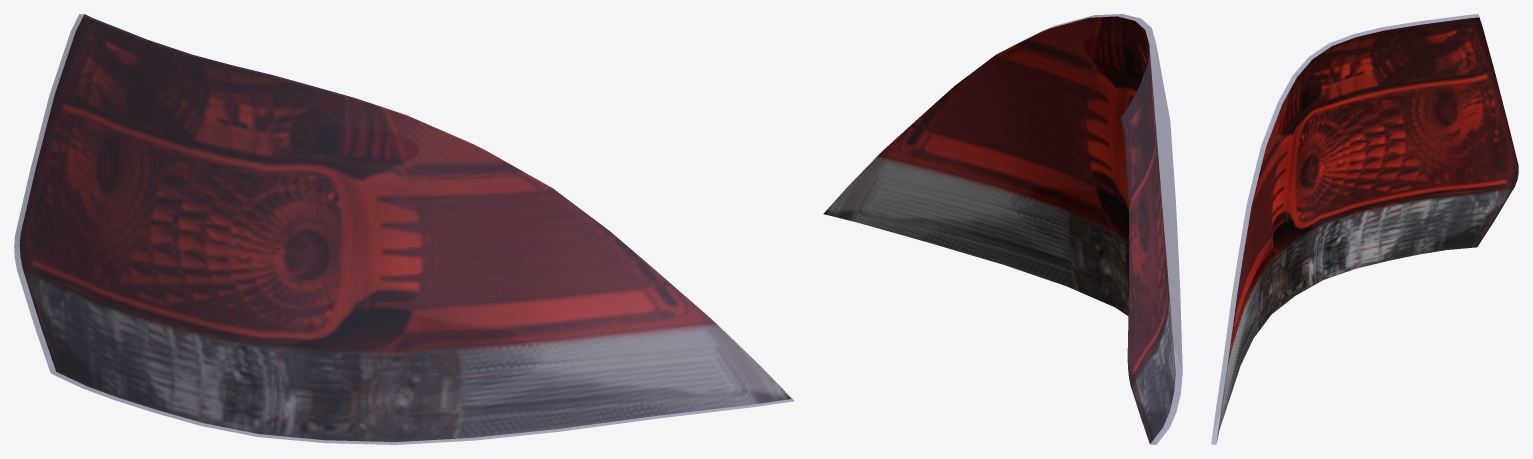
3 views of the same model, side by side, from view 1: azimuth 30°, elevation 25°; view 2: azimuth 150°, elevation 25°; view 3: azimuth 270°, elevation 25° (orthographic). The views are drawn at different scales.
Visible parts, largest first — view 1: X6164_20_541C_R_1_DTaSI_X6164_20_541C_R, X6164_20_541C_R_X6164_20_541C_R_2_N; view 2: X6164_20_541C_R_X6164_20_541C_R_2_N, X6164_20_541C_R_1_DTaSI_X6164_20_541C_R; view 3: X6164_20_541C_R_X6164_20_541C_R_2_N, X6164_20_541C_R_1_DTaSI_X6164_20_541C_R.
Boxes of the visible parts, x1,y1,x2,y2 form: X6164_20_541C_R_1_DTaSI_X6164_20_541C_R: (14,14,793,444); X6164_20_541C_R_X6164_20_541C_R_2_N: (19,14,791,441); X6164_20_541C_R_X6164_20_541C_R_2_N: (823,16,1175,443); X6164_20_541C_R_1_DTaSI_X6164_20_541C_R: (998,14,1182,444); X6164_20_541C_R_X6164_20_541C_R_2_N: (1216,17,1518,441); X6164_20_541C_R_1_DTaSI_X6164_20_541C_R: (1211,14,1479,444).
Size of the model in its own units: 44.03 by 28.09 by 30.56.
